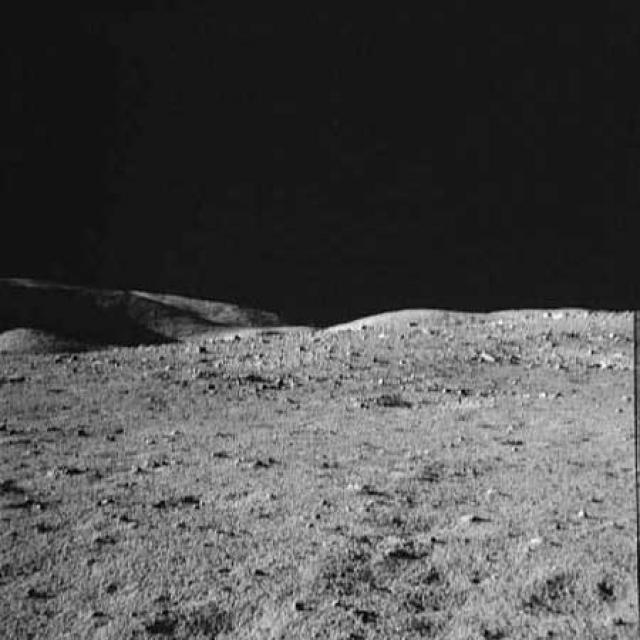crater: (364, 380, 531, 410)
